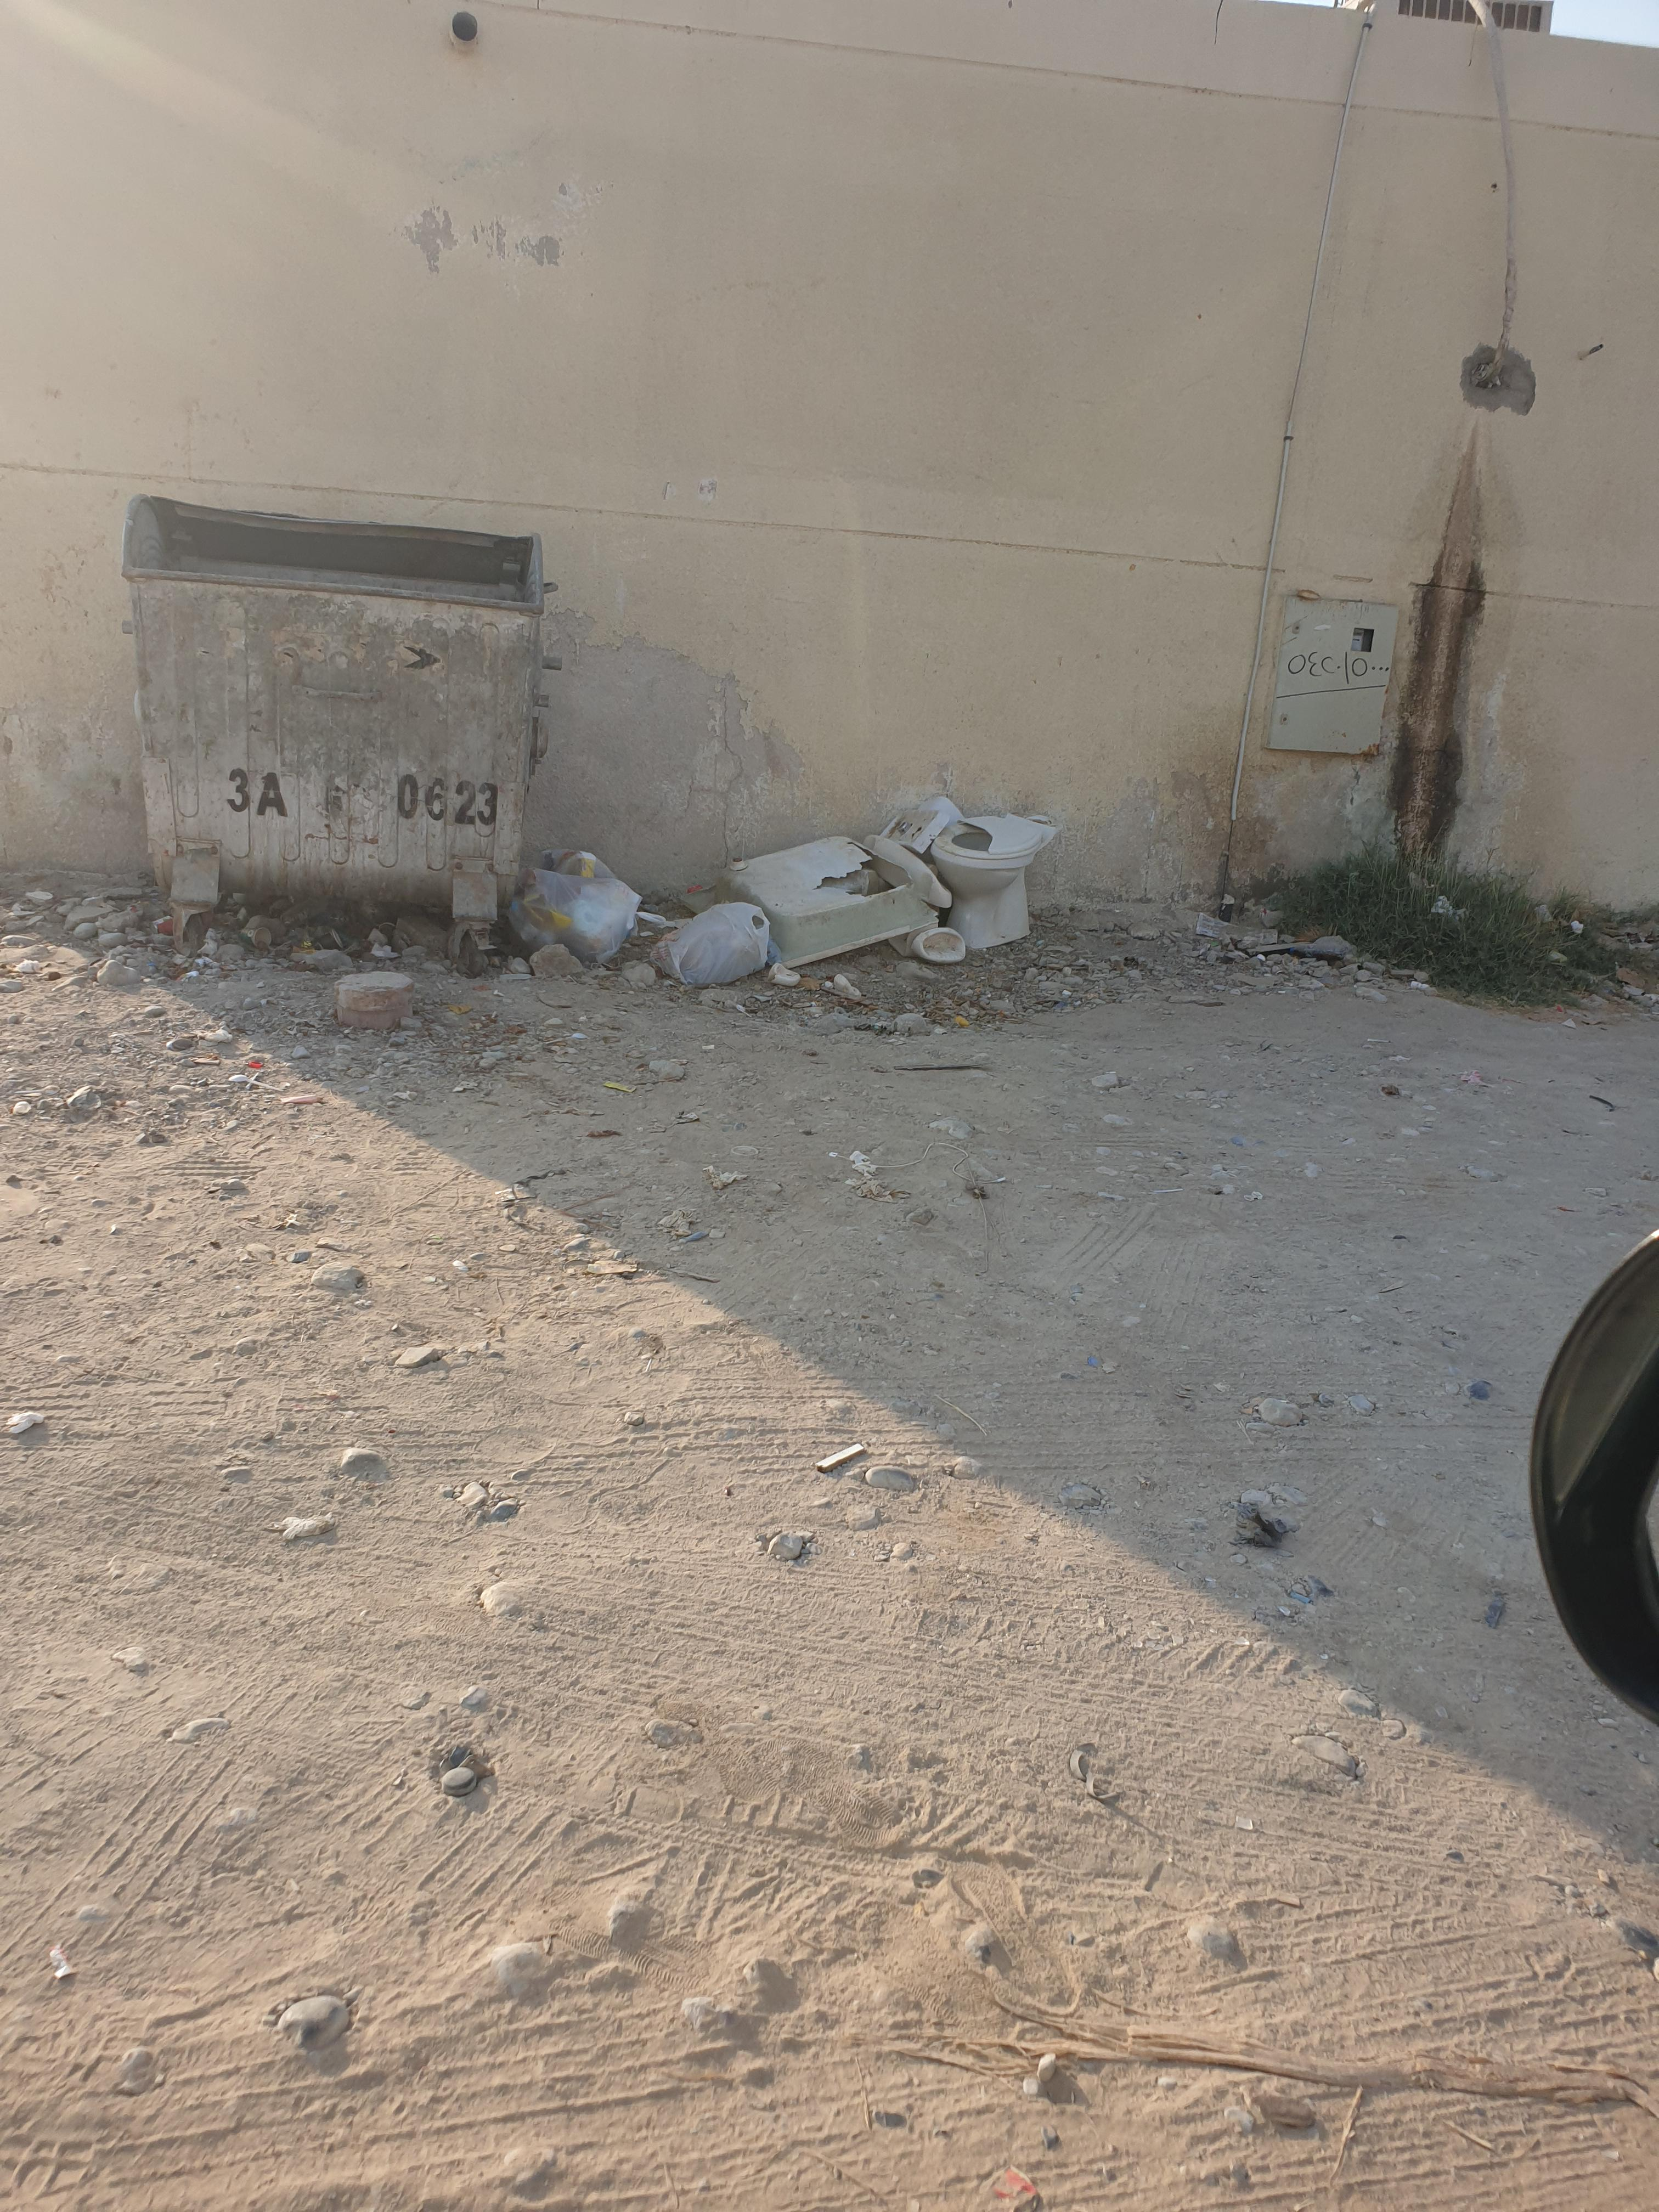uncollected_waste: (709, 782, 1129, 1035)
